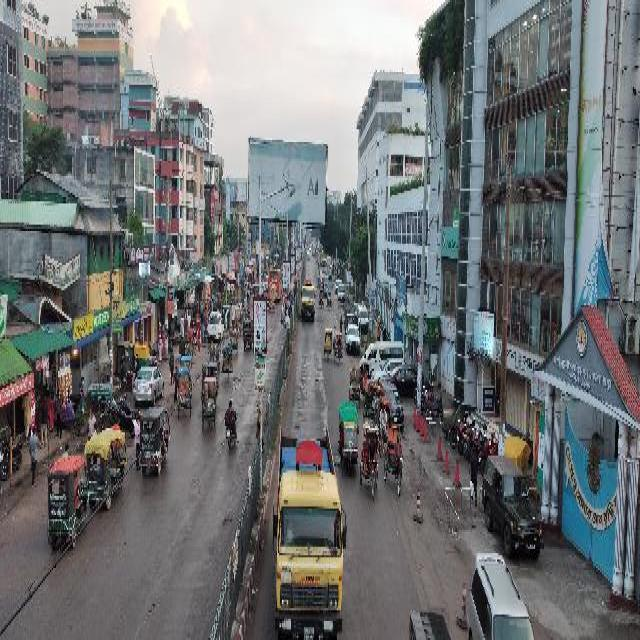bike: (444, 408, 470, 440), (225, 396, 238, 447), (470, 432, 495, 458), (457, 424, 482, 449), (117, 405, 135, 434), (422, 388, 442, 411), (122, 394, 140, 415), (121, 366, 136, 390)
vehicle: (276, 424, 345, 636), (483, 453, 544, 557), (466, 545, 530, 636), (49, 455, 90, 546), (87, 426, 127, 506), (141, 405, 171, 473), (338, 400, 358, 474), (361, 343, 405, 375), (384, 422, 402, 494), (362, 422, 379, 498), (380, 364, 426, 392), (134, 362, 165, 403), (383, 381, 405, 424), (203, 375, 218, 428), (178, 366, 193, 417), (373, 358, 406, 381), (379, 393, 391, 455), (363, 377, 377, 422), (345, 311, 361, 349), (301, 279, 315, 321), (207, 310, 225, 340), (351, 366, 362, 404), (269, 267, 282, 299), (210, 342, 221, 376), (223, 346, 234, 378), (243, 319, 254, 348), (335, 333, 344, 365), (358, 304, 369, 330), (325, 328, 333, 362), (231, 323, 240, 353), (223, 303, 232, 326), (236, 306, 243, 332), (339, 281, 346, 298), (269, 291, 275, 310), (328, 293, 333, 312), (321, 250, 327, 265), (324, 281, 329, 298), (320, 288, 324, 307), (335, 279, 341, 291), (318, 275, 322, 286), (329, 267, 333, 278), (323, 275, 326, 286)
